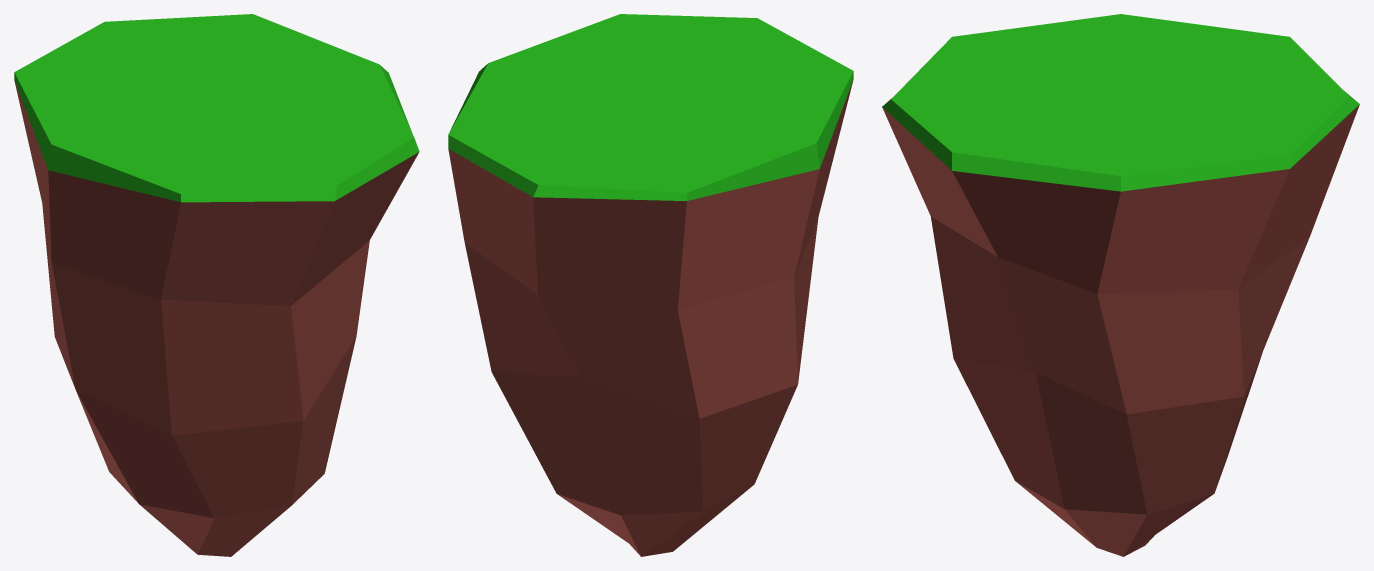
The model's file is Medium Island.fbx.
3 views of the same model, side by side, from view 1: azimuth 30°, elevation 25°; view 2: azimuth 150°, elevation 25°; view 3: azimuth 270°, elevation 25° (orthographic).
Parts seen in each view (by area): view 1: Cylinder-Mesh-0, Cylinder-Mesh-1; view 2: Cylinder-Mesh-0, Cylinder-Mesh-1; view 3: Cylinder-Mesh-0, Cylinder-Mesh-1.
Part boxes in pixels (x1,y1,x2,y2): Cylinder-Mesh-0: (15, 82, 419, 556); Cylinder-Mesh-1: (14, 14, 419, 202); Cylinder-Mesh-0: (448, 81, 852, 556); Cylinder-Mesh-1: (448, 14, 853, 200); Cylinder-Mesh-0: (882, 104, 1359, 556); Cylinder-Mesh-1: (882, 14, 1359, 191).
Size of the model in its own units: 1.2 by 1.5 by 1.44.
